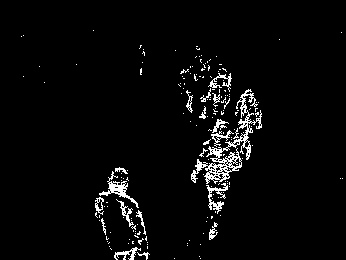person: (189, 120, 242, 242), (93, 166, 149, 260), (235, 87, 263, 136), (206, 68, 230, 116)
